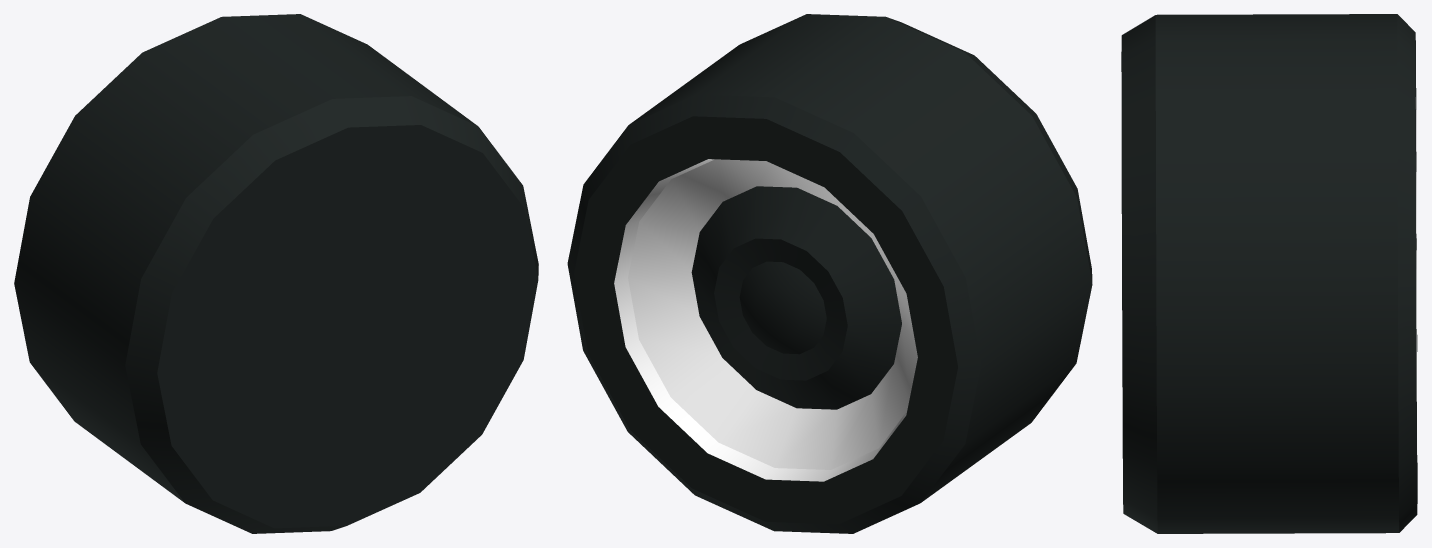
The model's file is llantaText.obj.
The picture shows the model from 3 angles, left to right: view 1: azimuth 30°, elevation 25°; view 2: azimuth 150°, elevation 25°; view 3: azimuth 270°, elevation 25°; orthographic projection. The views are drawn at different scales.
Visible parts, largest first — view 1: whell_001_car2_019; view 2: whell_001_car2_019; view 3: whell_001_car2_019.
Part boxes in pixels (bbox=[...]): whell_001_car2_019: bbox=[14, 14, 538, 533]; whell_001_car2_019: bbox=[567, 14, 1092, 533]; whell_001_car2_019: bbox=[1121, 14, 1417, 533].
Size of the model in its own units: 1.07 by 1.07 by 0.6088.
Materials: 1 (1 with a texture image).
